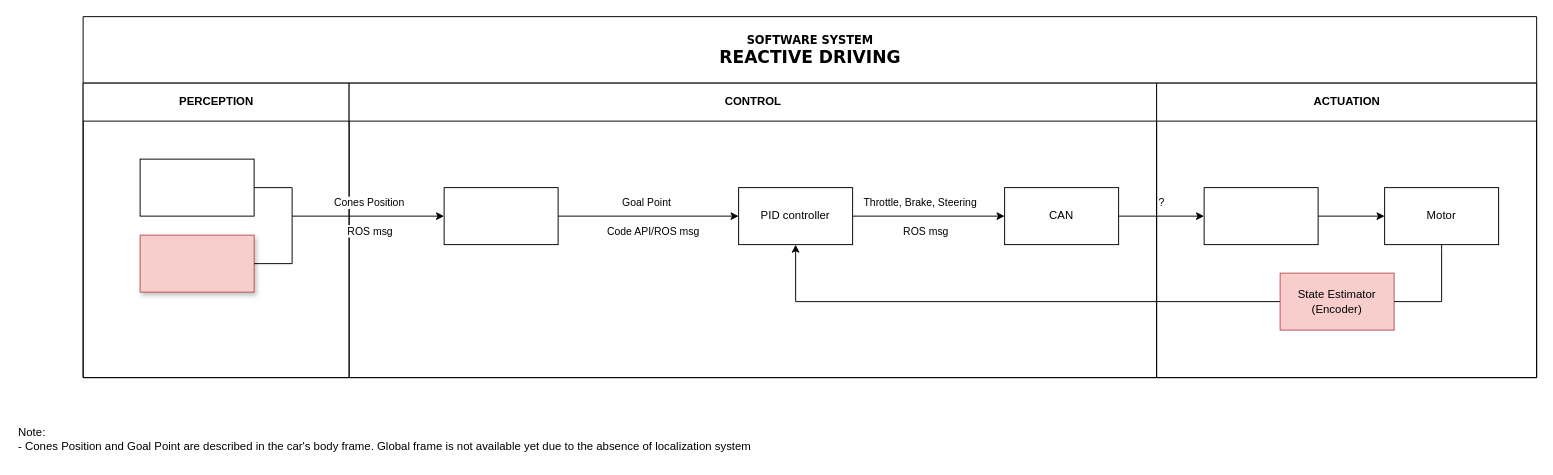
Some shapes in this 1553 by 475 pixel diagram are drawn without their labels. Here are the shapes that lost their labels. From the top down, the centre of each, then its label:
At (x=196, y=187): "Computer Vision".
At (x=500, y=216): "Path Planning/ Motion Planning".
At (x=1260, y=216): "Motor Driver".
At (x=197, y=264): "LiDAR".
